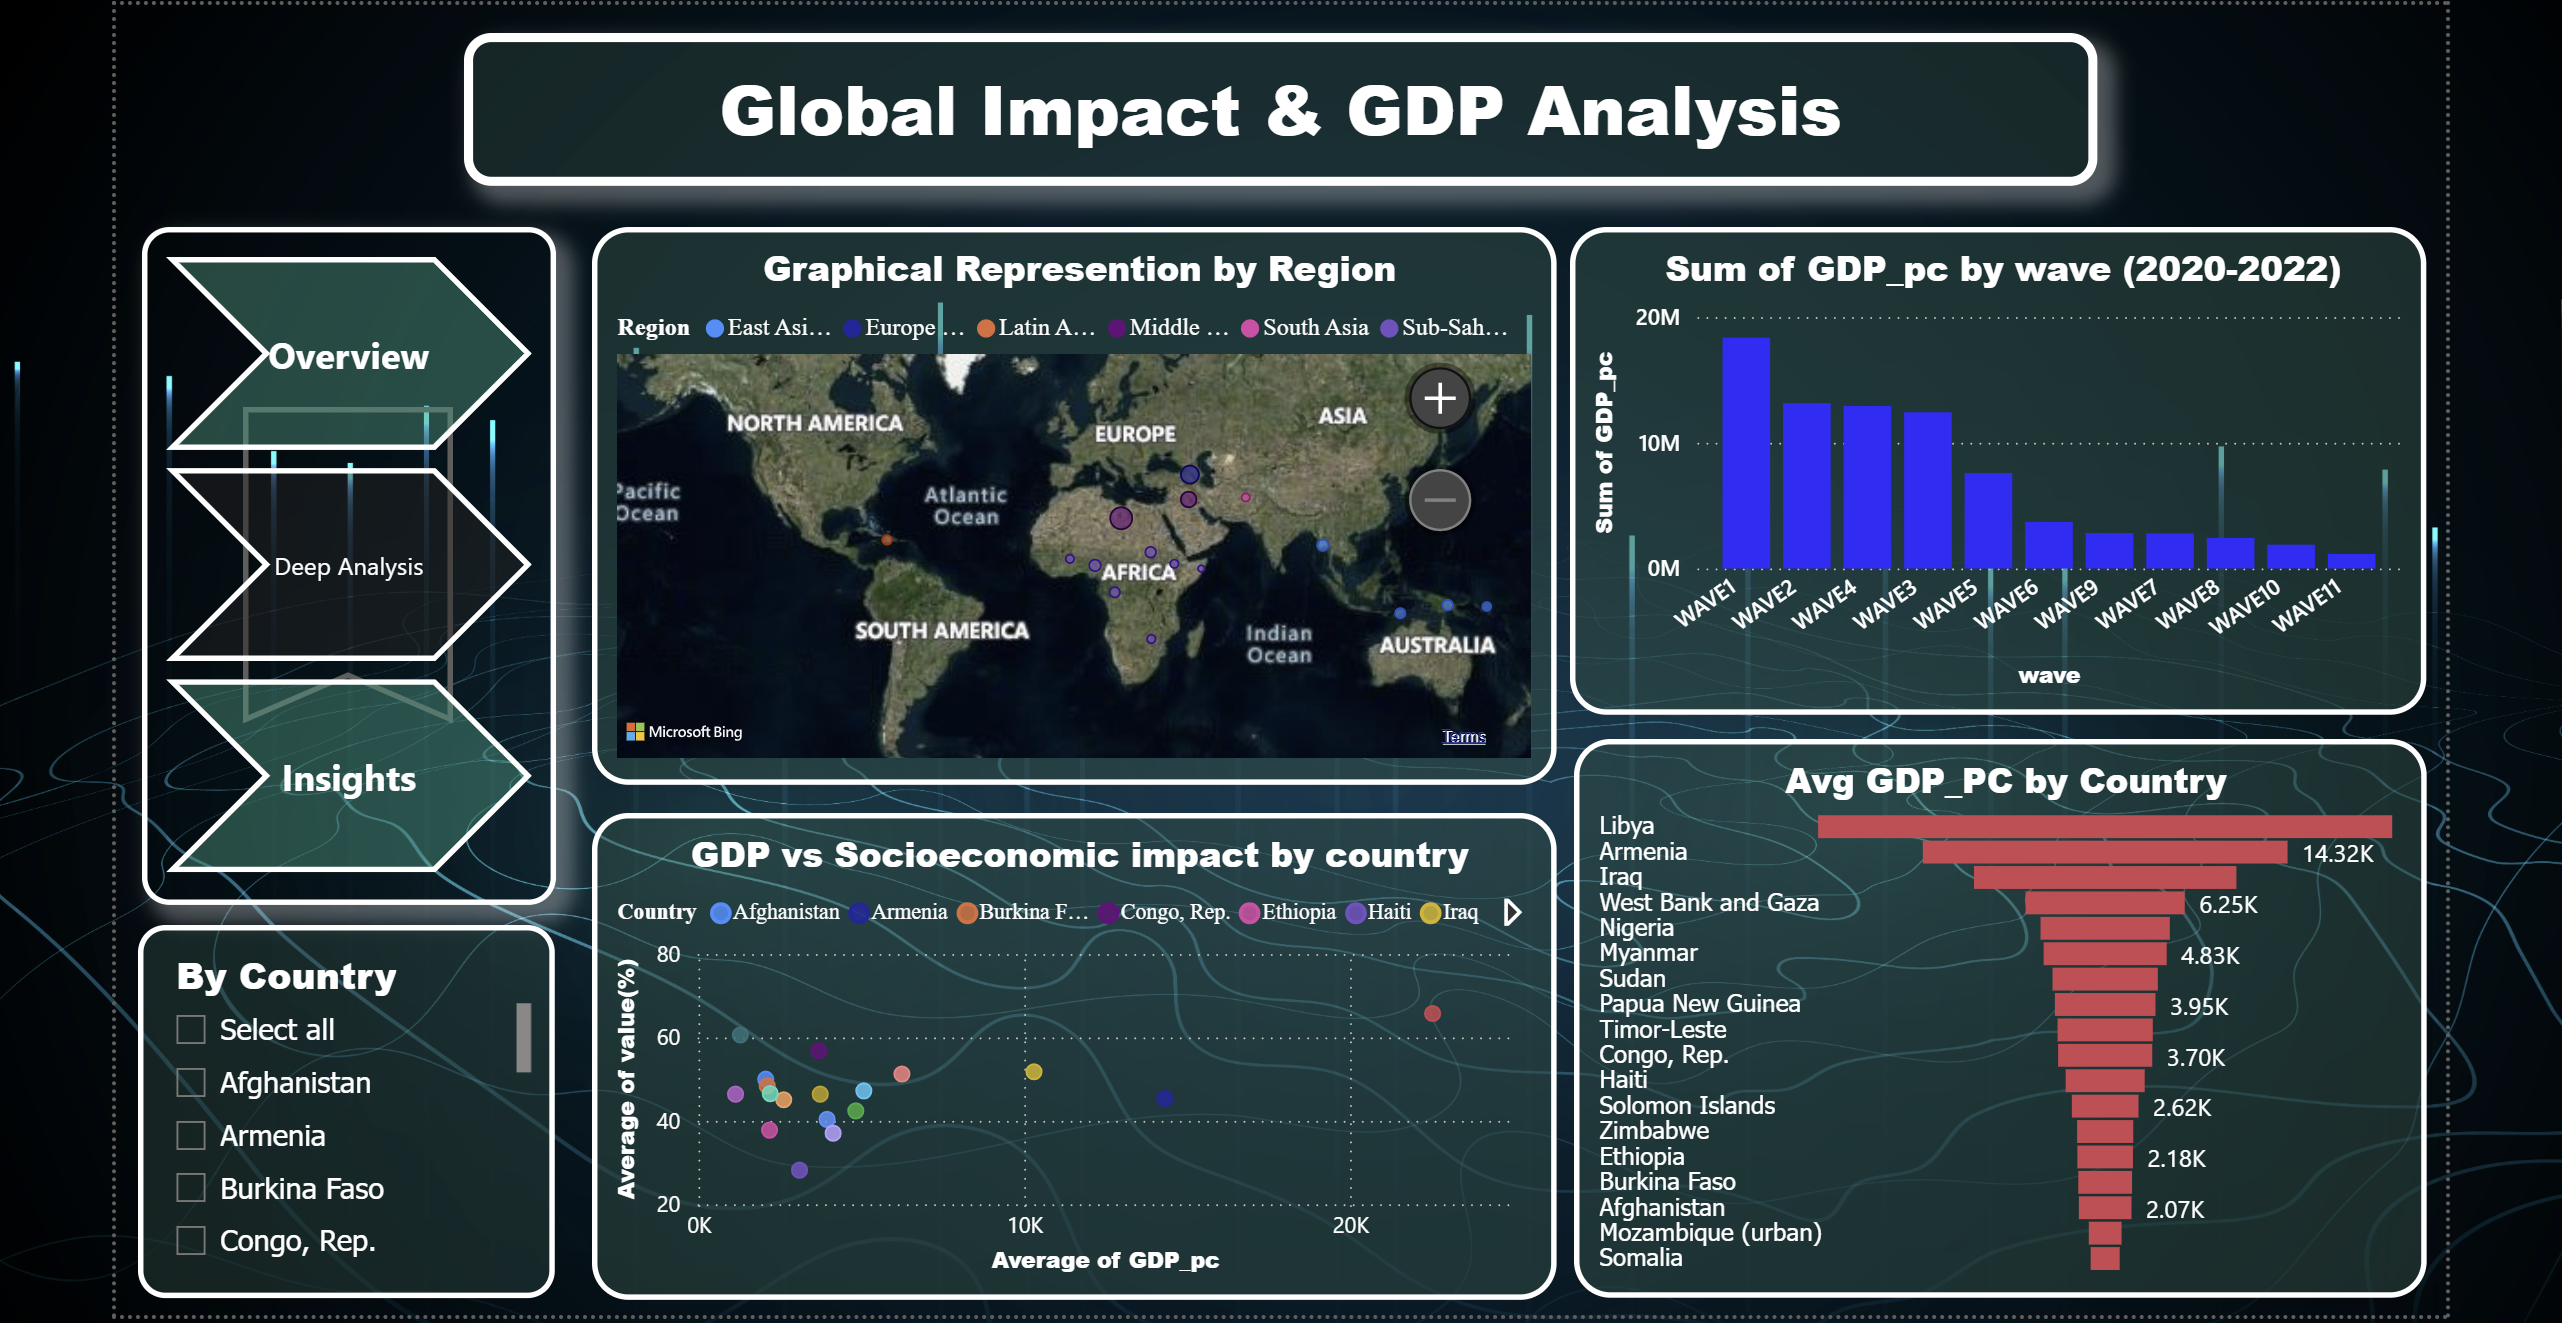

The dashboard page shown, as its layout file describes it:
{"tool":"powerbi","page":{"name":"Deep Analysis","canvas":[1280,720],"ordinal":1},"visuals":[{"type":"textbox","box":[191.2,15,897.5,83.8],"z":0},{"type":"actionButton","box":[13.8,122.5,227.5,372.5],"z":1000},{"type":"pageNavigator","box":[27.5,138.8,201.2,340],"z":2000},{"type":"slicer","fields":{"Values":["Sheet1.country"]},"box":[12.5,505,228.8,205],"z":3000},{"type":"map","title":"Graphical Represention by Region","fields":{"Category":["Sheet1.country"],"Size":["Avg(Sheet1.GDP_pc)"],"Series":["Sheet1.region"]},"box":[261.2,122.5,530,306.2],"z":4000},{"type":"scatterChart","title":"GDP vs Socioeconomic impact by country","fields":{"X":["Avg(Sheet1.GDP_pc)"],"Y":["Avg(Sheet1.value(%))"],"Series":["Sheet1.country"]},"box":[261.2,443.8,530,267.5],"z":5000},{"type":"funnel","title":"Avg GDP_PC by Country","fields":{"Category":["Sheet1.country"],"Y":["Avg(Sheet1.GDP_pc)"]},"box":[801.4,402.9,468.6,307.1],"z":6000},{"type":"clusteredColumnChart","title":"Sum of GDP_pc by wave (2020-2022)","fields":{"Category":["Sheet1.wave"],"Y":["Sum(Sheet1.GDP_pc)"]},"box":[798.9,122,470.3,268.1],"z":7000}]}

Visuals, with their boxes in screenshot pixels (x1, y1, x2, y2):
textbox: 466/27/2090/179
actionButton: 145/222/557/896
pageNavigator: 170/251/534/866
slicer - Sheet1.country: 143/914/557/1285
"Graphical Represention by Region" map: 593/222/1552/776
"GDP vs Socioeconomic impact by country" scatterChart: 593/803/1552/1287
"Avg GDP_PC by Country" funnel: 1570/729/2418/1285
"Sum of GDP_pc by wave (2020-2022)" clusteredColumnChart: 1566/221/2417/706
